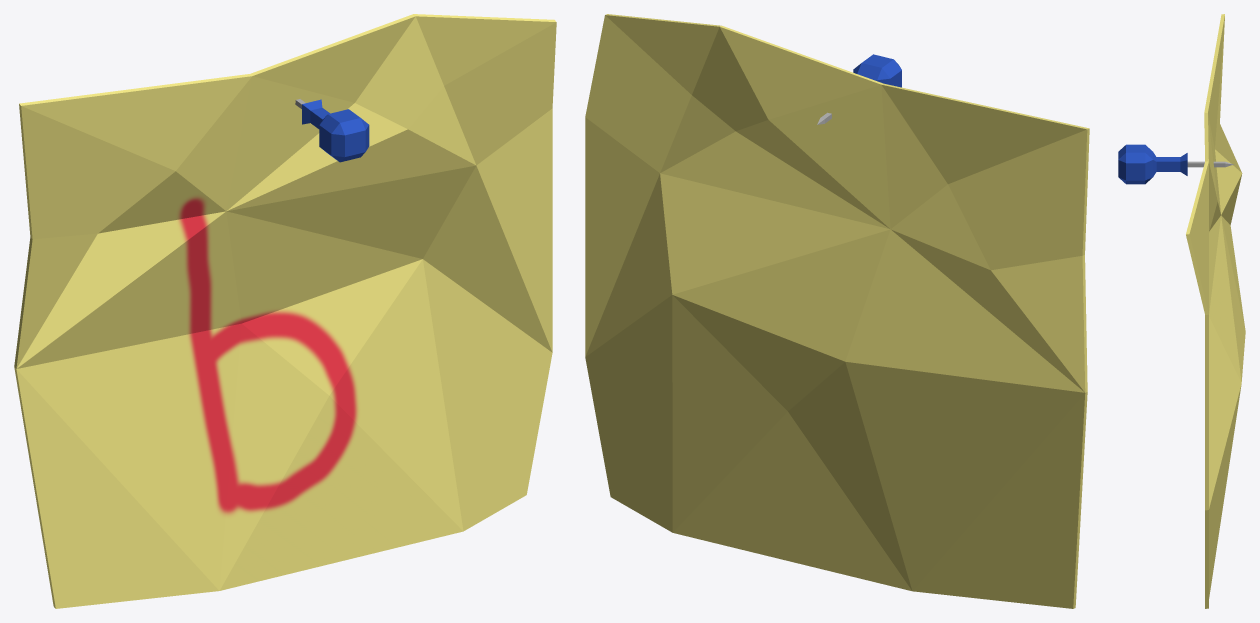
The model's file is Paper Letter B.fbx.
3 renders of one model, left to right at view 1: azimuth 30°, elevation 25°; view 2: azimuth 150°, elevation 25°; view 3: azimuth 270°, elevation 25°, orthographic. The views are drawn at different scales.
Visible parts, largest first — view 1: Papier, Punaise; view 2: Papier, Punaise; view 3: Papier, Punaise.
Part boxes in pixels (x1,y1,x2,y2): Papier: (14, 14, 556, 608); Punaise: (295, 99, 369, 162); Papier: (585, 14, 1089, 608); Punaise: (817, 54, 901, 124); Papier: (1186, 14, 1245, 608); Punaise: (1118, 144, 1233, 184).
Bounding box in the file's own units: 208 × 200 × 54.89.
